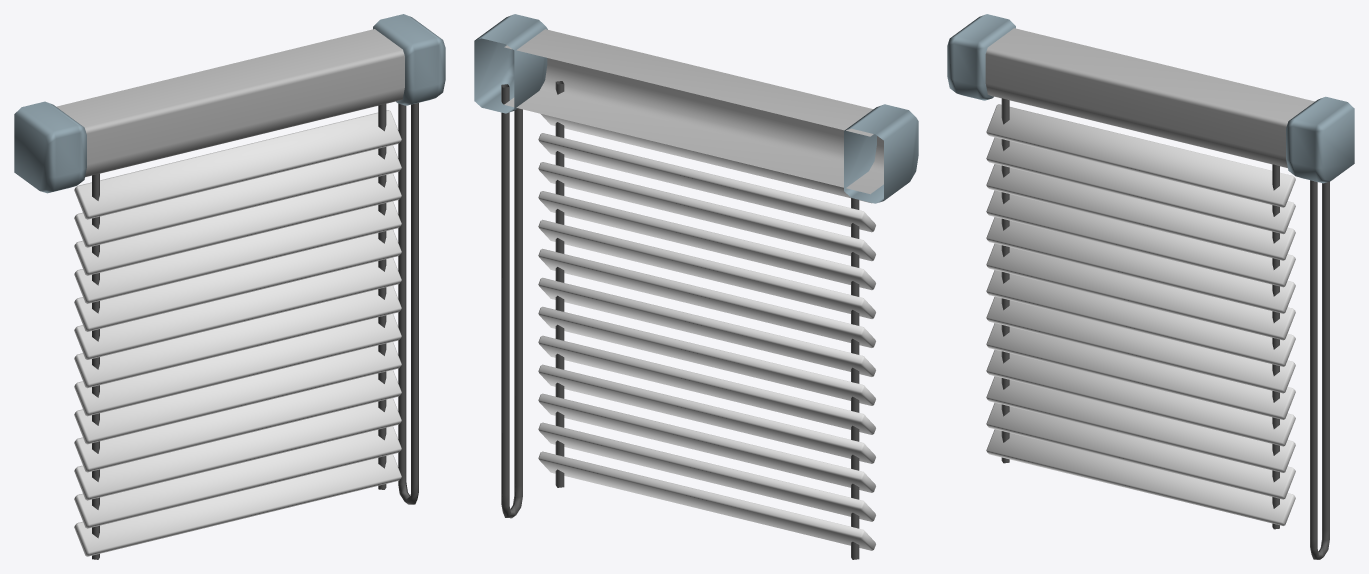
File: curtain_012.fbx
3 renders of one model, left to right at view 1: azimuth 30°, elevation 25°; view 2: azimuth 150°, elevation 25°; view 3: azimuth 330°, elevation 25°, orthographic. The views are drawn at different scales.
Parts seen in each view (by area): view 1: curtain_012; view 2: curtain_012; view 3: curtain_012.
Part boxes in pixels (bbox=[...]): curtain_012: bbox=[14, 14, 445, 559]; curtain_012: bbox=[474, 14, 918, 559]; curtain_012: bbox=[947, 14, 1354, 559].
Bounding box in the file's own units: 200 × 30.34 × 229.
